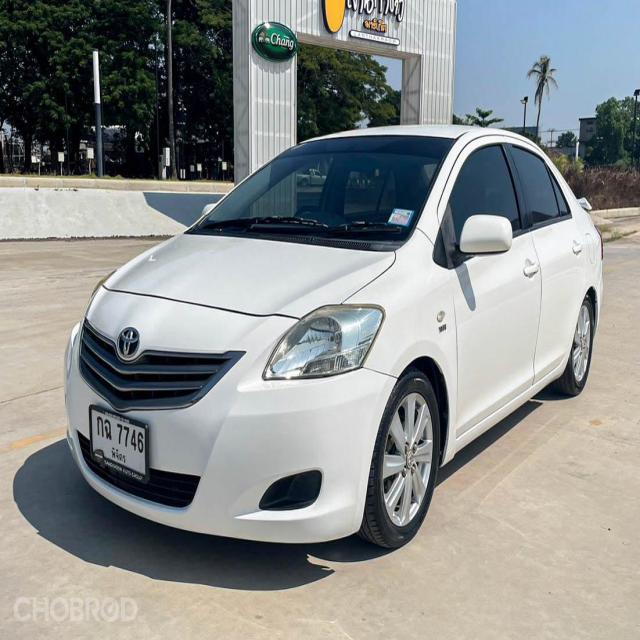license_plate: (79, 401, 165, 493)
